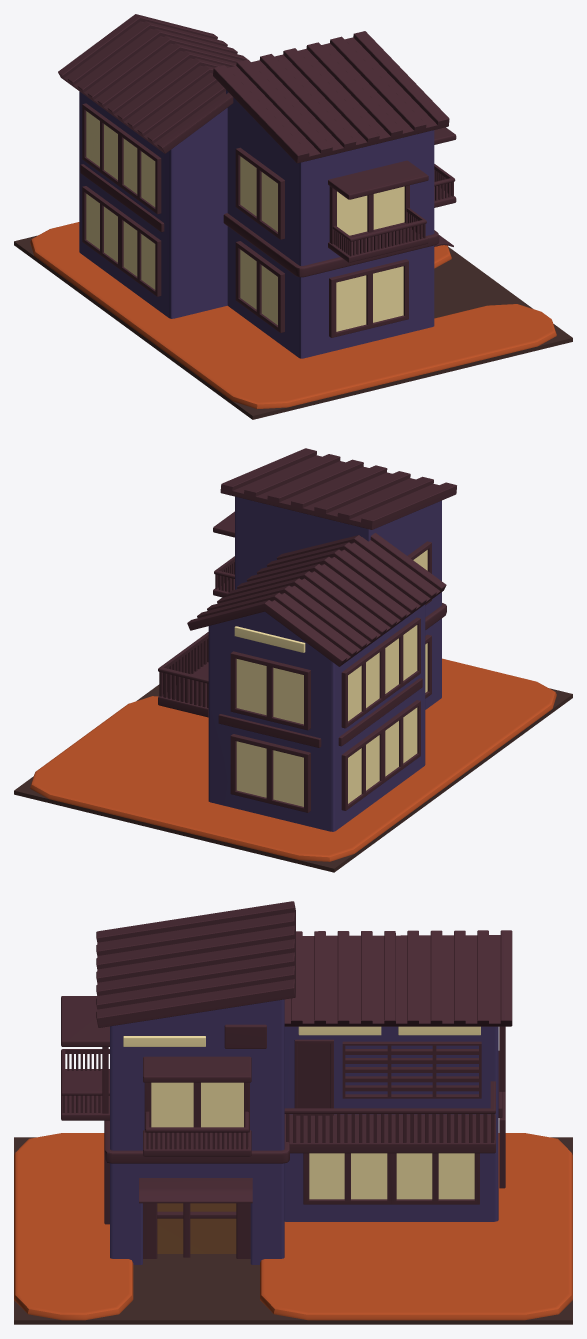
The model's file is LP H2 Ground.fbx.
3 views of the same model, one above another, from view 1: azimuth 30°, elevation 25°; view 2: azimuth 150°, elevation 25°; view 3: azimuth 270°, elevation 25° (orthographic). The views are drawn at different scales.
Parts seen in each view (by area): view 1: pasted__pCube167; view 2: pasted__pCube167; view 3: pasted__pCube167.
Part boxes in pixels (x1,y1,x2,y2): pasted__pCube167: (14, 14, 572, 419); pasted__pCube167: (14, 448, 572, 872); pasted__pCube167: (14, 901, 572, 1324).
Bounding box in the file's own units: 55.63 × 40.67 × 71.82.
